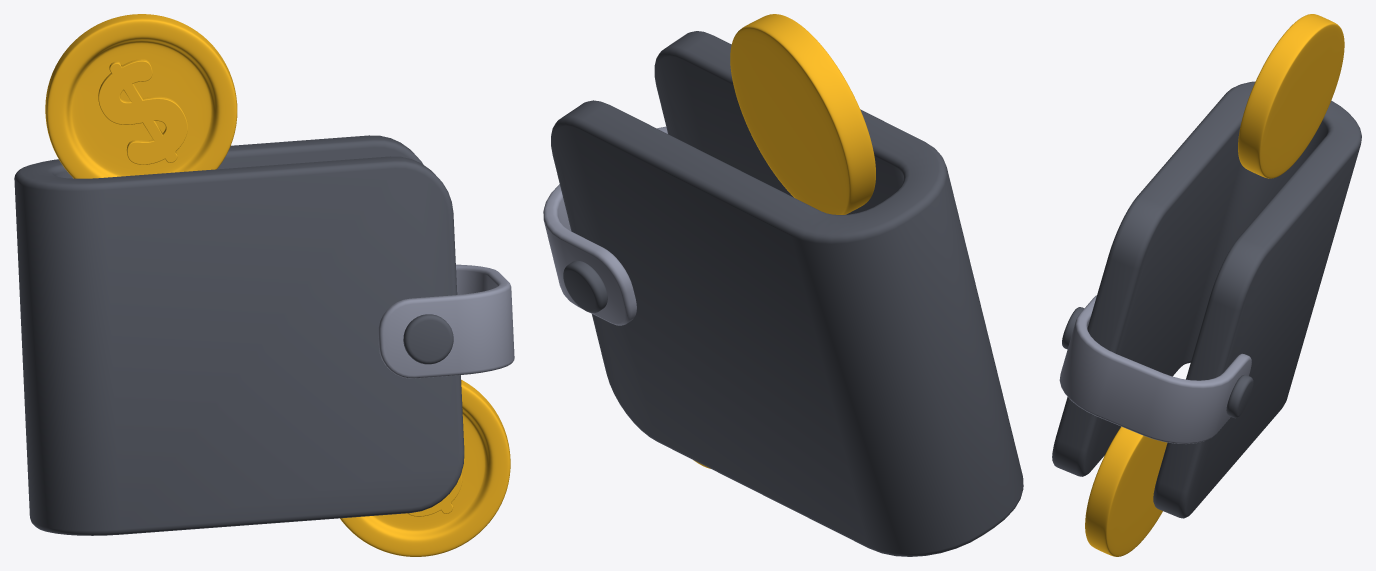
File: wallet.glb
The picture shows the model from 3 angles, left to right: view 1: azimuth 30°, elevation 25°; view 2: azimuth 150°, elevation 25°; view 3: azimuth 270°, elevation 25°; orthographic projection. The views are drawn at different scales.
Visible parts, largest first — view 1: Cube.010, Cylinder.015, Cylinder.022, Cube.011, Text.012, Cylinder.020; view 2: Cube.010, Cylinder.015, Cube.011, Cylinder.020; view 3: Cube.010, Cube.011, Cylinder.015, Cylinder.022, Cylinder.020.
Part boxes in pixels (box(x1,y1,x2,y2)): Cube.010: box(14, 135, 464, 535); Cylinder.015: box(45, 14, 237, 178); Cylinder.022: box(340, 380, 510, 556); Cube.011: box(378, 264, 514, 378); Text.012: box(98, 59, 187, 164); Cylinder.020: box(403, 314, 453, 364); Cube.010: box(551, 31, 1023, 556); Cylinder.015: box(730, 14, 875, 214); Cube.011: box(543, 126, 667, 325); Cylinder.020: box(563, 260, 607, 312); Cube.010: box(1052, 81, 1361, 518); Cube.011: box(1059, 295, 1251, 443); Cylinder.015: box(1238, 14, 1344, 178); Cylinder.022: box(1085, 426, 1167, 556); Cylinder.020: box(1062, 307, 1253, 418).
Bounding box in the file's own units: 4.13 × 4.63 × 2.89.
